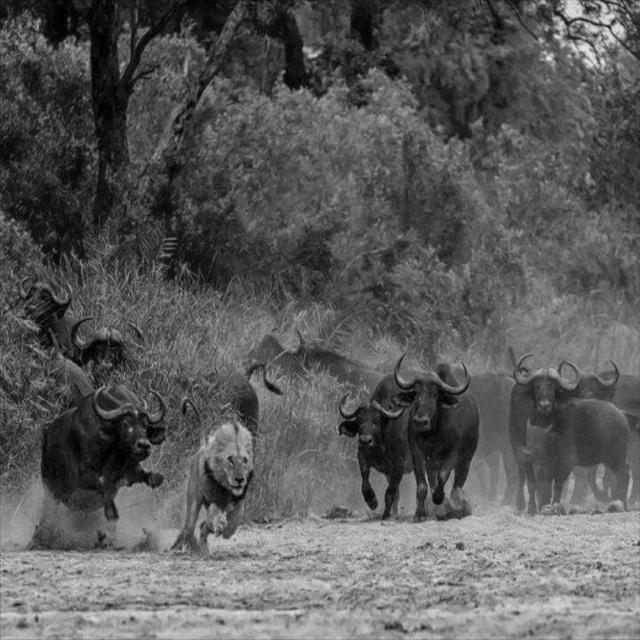Lion: (186, 378, 265, 579)
